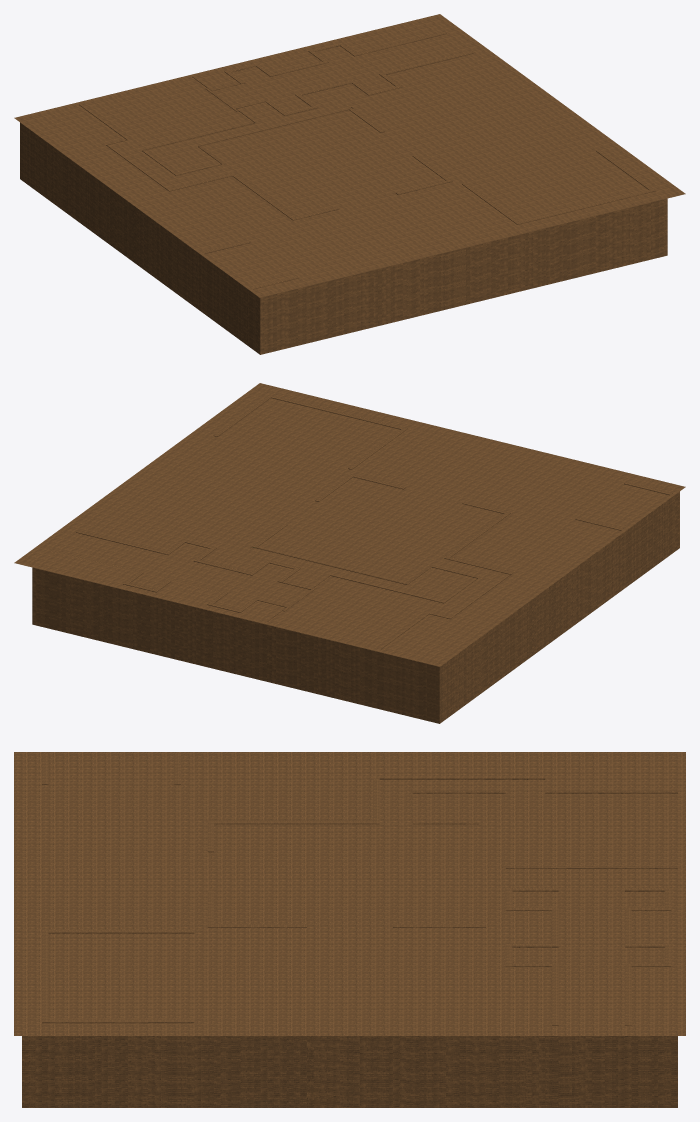
The model's file is Dungen2.gltf.
3 views of the same model, one above another, from view 1: azimuth 30°, elevation 25°; view 2: azimuth 150°, elevation 25°; view 3: azimuth 270°, elevation 25° (orthographic). The views are drawn at different scales.
Parts seen in each view (by area): view 1: Plane, map; view 2: Plane, map; view 3: Plane, map.
Part boxes in pixels (left/top/right/bottom): Plane: left=14, top=14, right=685, bottom=297; map: left=20, top=32, right=667, bottom=354; Plane: left=14, top=383, right=685, bottom=666; map: left=32, top=394, right=679, bottom=723; Plane: left=14, top=752, right=685, bottom=1035; map: left=22, top=753, right=677, bottom=1107.
Size of the model in its own units: 102 by 13.86 by 102.
4 materials, 4 textured.
